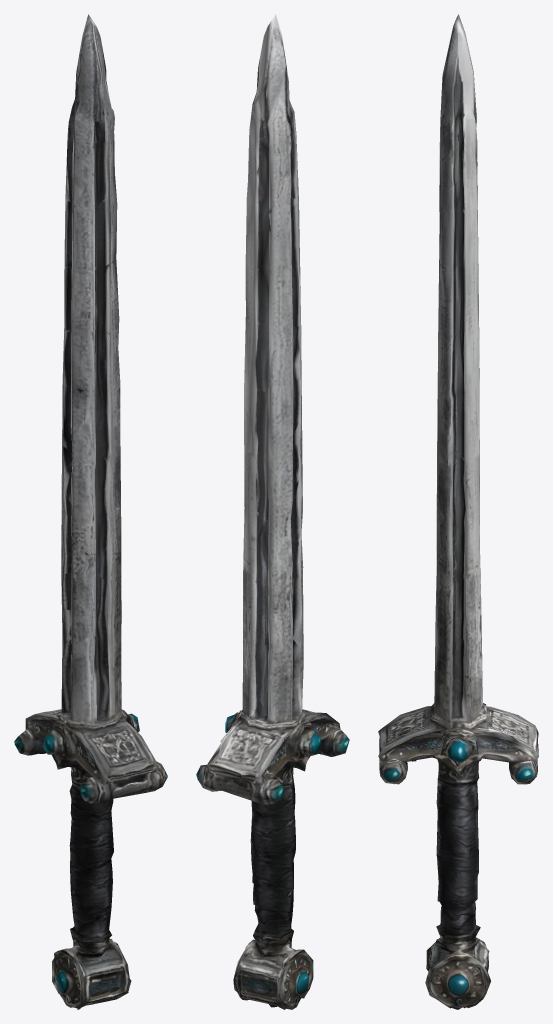
File: sword.glb
3 views of the same model, side by side, from view 1: azimuth 30°, elevation 25°; view 2: azimuth 150°, elevation 25°; view 3: azimuth 270°, elevation 25° (orthographic).
Parts seen in each view (by area): view 1: tripo_node_78aa4ea8-a06a-4ab4-b3aa-a9c19af7fe7d; view 2: tripo_node_78aa4ea8-a06a-4ab4-b3aa-a9c19af7fe7d; view 3: tripo_node_78aa4ea8-a06a-4ab4-b3aa-a9c19af7fe7d.
Part boxes in pixels (x1=…): tripo_node_78aa4ea8-a06a-4ab4-b3aa-a9c19af7fe7d: x1=14, y1=14, x2=167, y2=1009; tripo_node_78aa4ea8-a06a-4ab4-b3aa-a9c19af7fe7d: x1=196, y1=14, x2=349, y2=1009; tripo_node_78aa4ea8-a06a-4ab4-b3aa-a9c19af7fe7d: x1=378, y1=14, x2=538, y2=1009.
Bounding box in the file's own units: 0.0959 × 0.9849 × 0.1455.
Materials: 1 (1 with a texture image).
